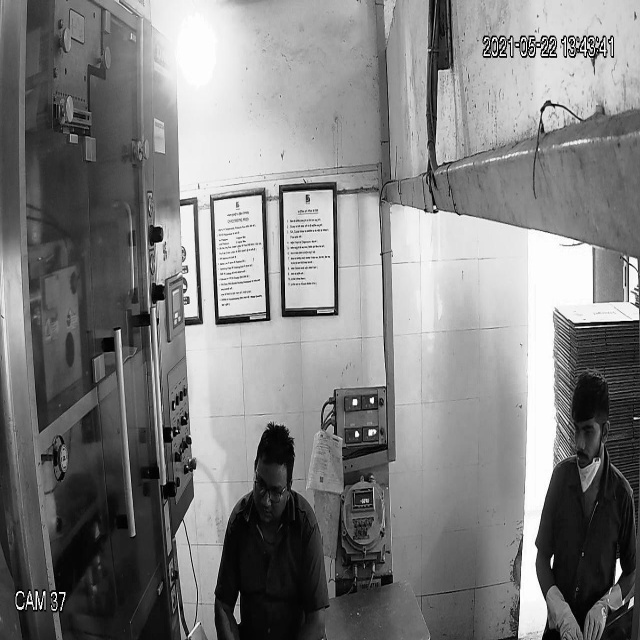Gafas: (250, 470, 293, 507)
Sin_gafas: (572, 415, 604, 446)
